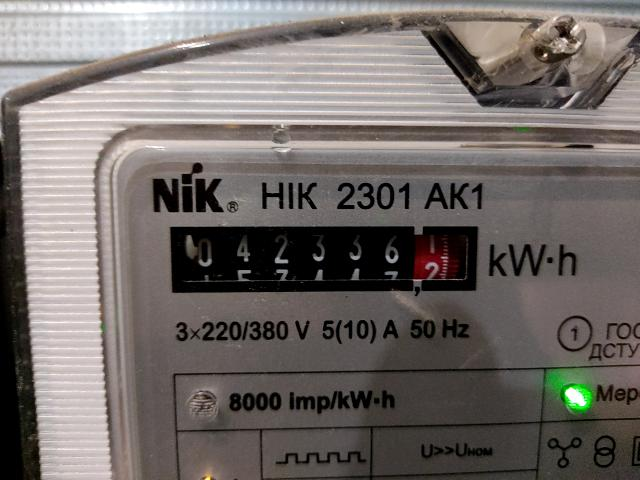0: (195, 236, 214, 269)
1: (425, 230, 437, 256)
2: (271, 232, 292, 266), (422, 261, 439, 282)
3: (308, 231, 326, 263), (347, 231, 364, 263)
4: (235, 232, 252, 264)
6: (382, 233, 402, 267)
screen: (157, 213, 492, 304)
